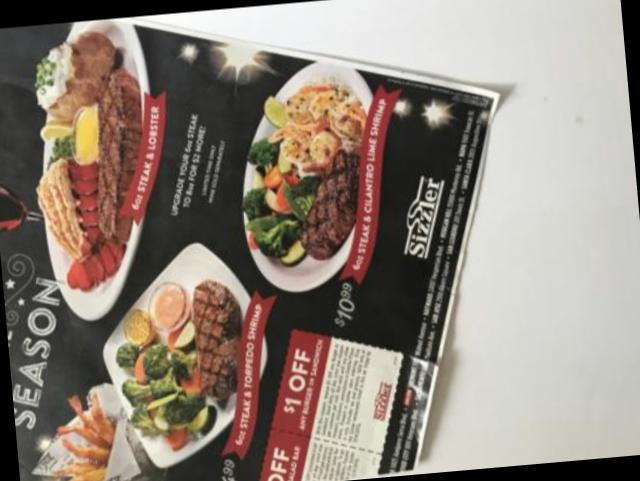cardboard paper: (0, 16, 496, 481)
